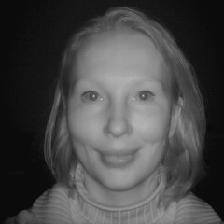happy: (34, 8, 210, 204)
